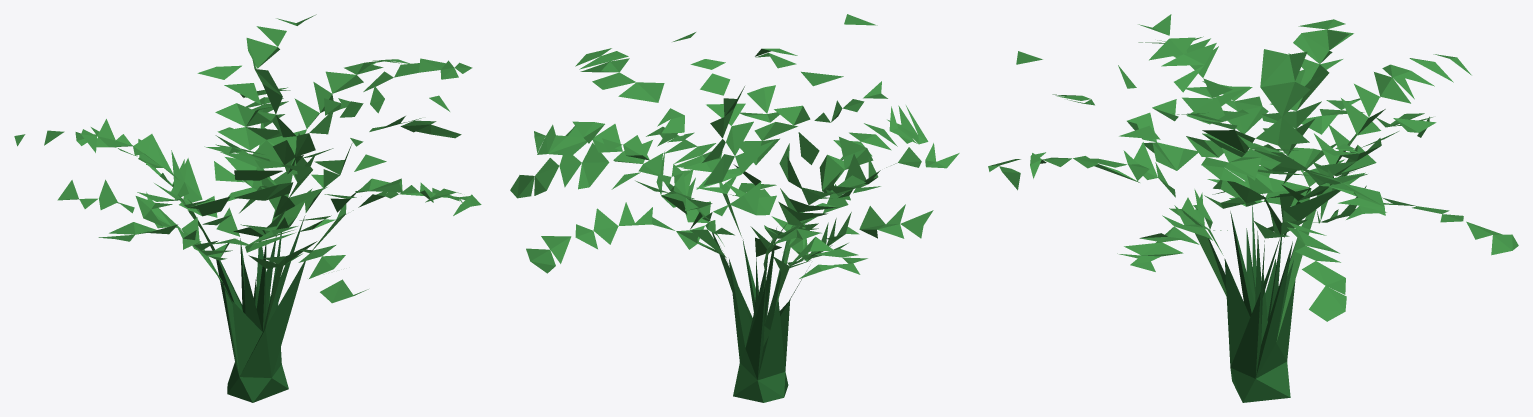
File: fern-1.glb
3 views of the same model, side by side, from view 1: azimuth 30°, elevation 25°; view 2: azimuth 150°, elevation 25°; view 3: azimuth 270°, elevation 25° (orthographic). The views are drawn at different scales.
Parts seen in each view (by area): view 1: output_unwrapped; view 2: output_unwrapped; view 3: output_unwrapped.
Part boxes in pixels (x1,y1,x2,y2): output_unwrapped: (14, 14, 481, 402); output_unwrapped: (510, 14, 959, 402); output_unwrapped: (988, 14, 1518, 402).
Size of the model in its own units: 1.23 by 0.9411 by 1.3.
